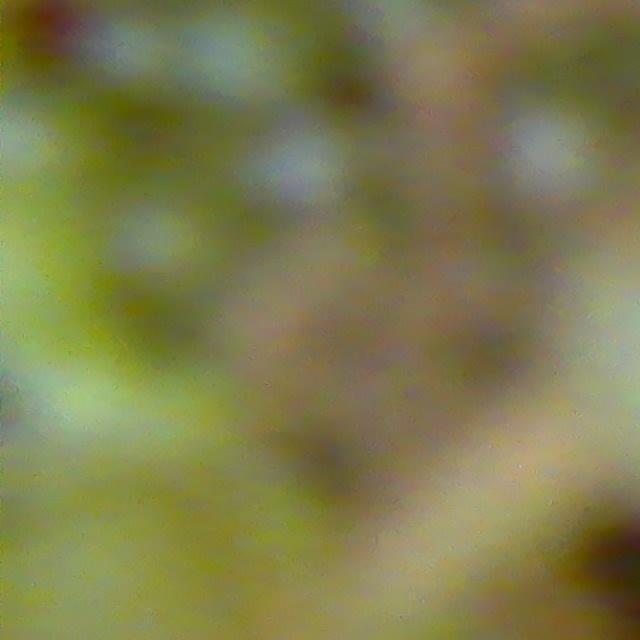SeaGrape: (167, 0, 308, 116), (251, 117, 362, 217), (84, 5, 183, 103)
